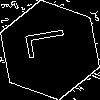L: (25, 25, 77, 60)
